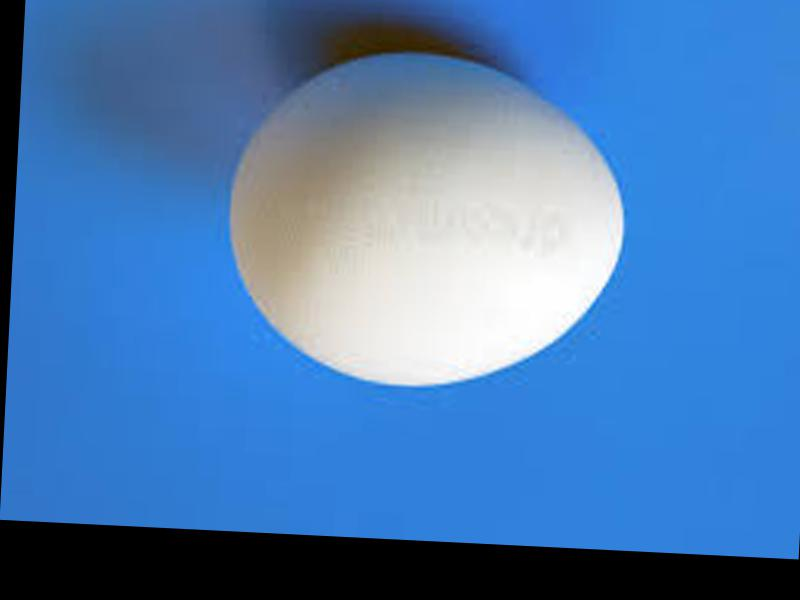Eggs: (218, 41, 636, 395)
